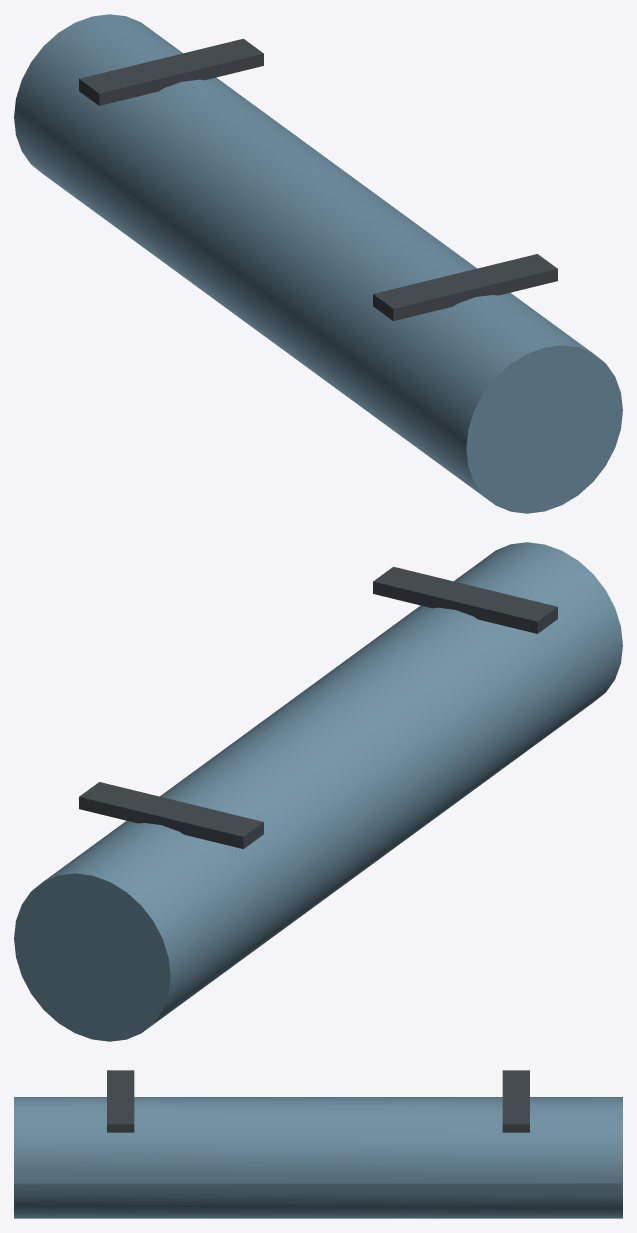
The model's file is long-haul-trucking-and-truck-stop-tarp-roll-39483596__13986.glb.
The picture shows the model from 3 angles, top to bottom: view 1: azimuth 30°, elevation 25°; view 2: azimuth 150°, elevation 25°; view 3: azimuth 270°, elevation 25°; orthographic projection. The views are drawn at different scales.
Visible parts, largest first — view 1: tarp-roll; view 2: tarp-roll; view 3: tarp-roll.
Part boxes in pixels (x1,y1,x2,y2): tarp-roll: [14, 14, 622, 513]; tarp-roll: [14, 542, 622, 1041]; tarp-roll: [14, 1070, 622, 1218].
Bounding box in the file's own units: 0.42 × 0.42 × 2.
